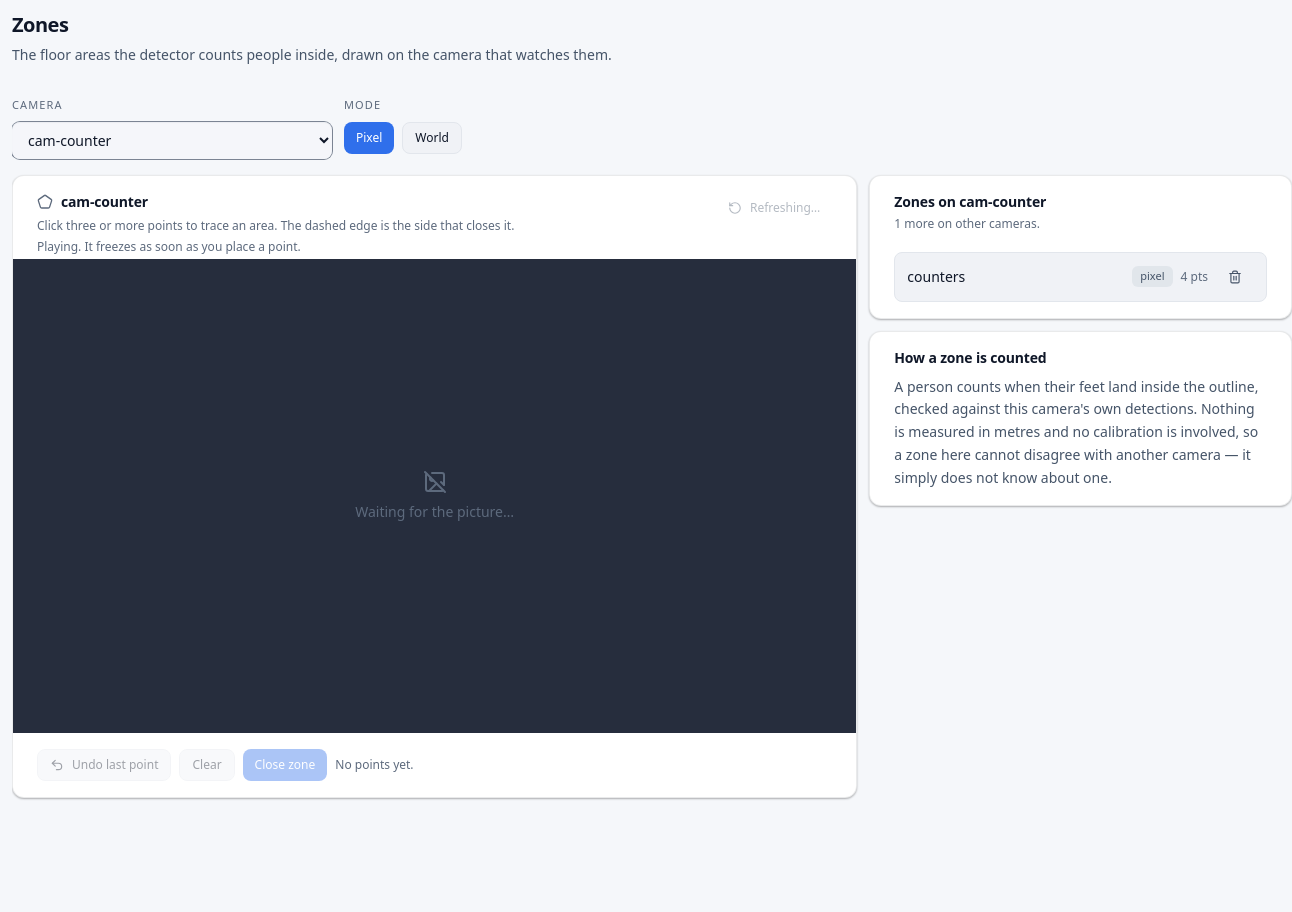
Zones › follows the camera picker
Expected: the text "counters" is shown, 907,266 -> 965,286
Step 1. Select "cam-lobby" in the dropdown labelled "Camera" → (172, 140), box 12,122 -> 332,158
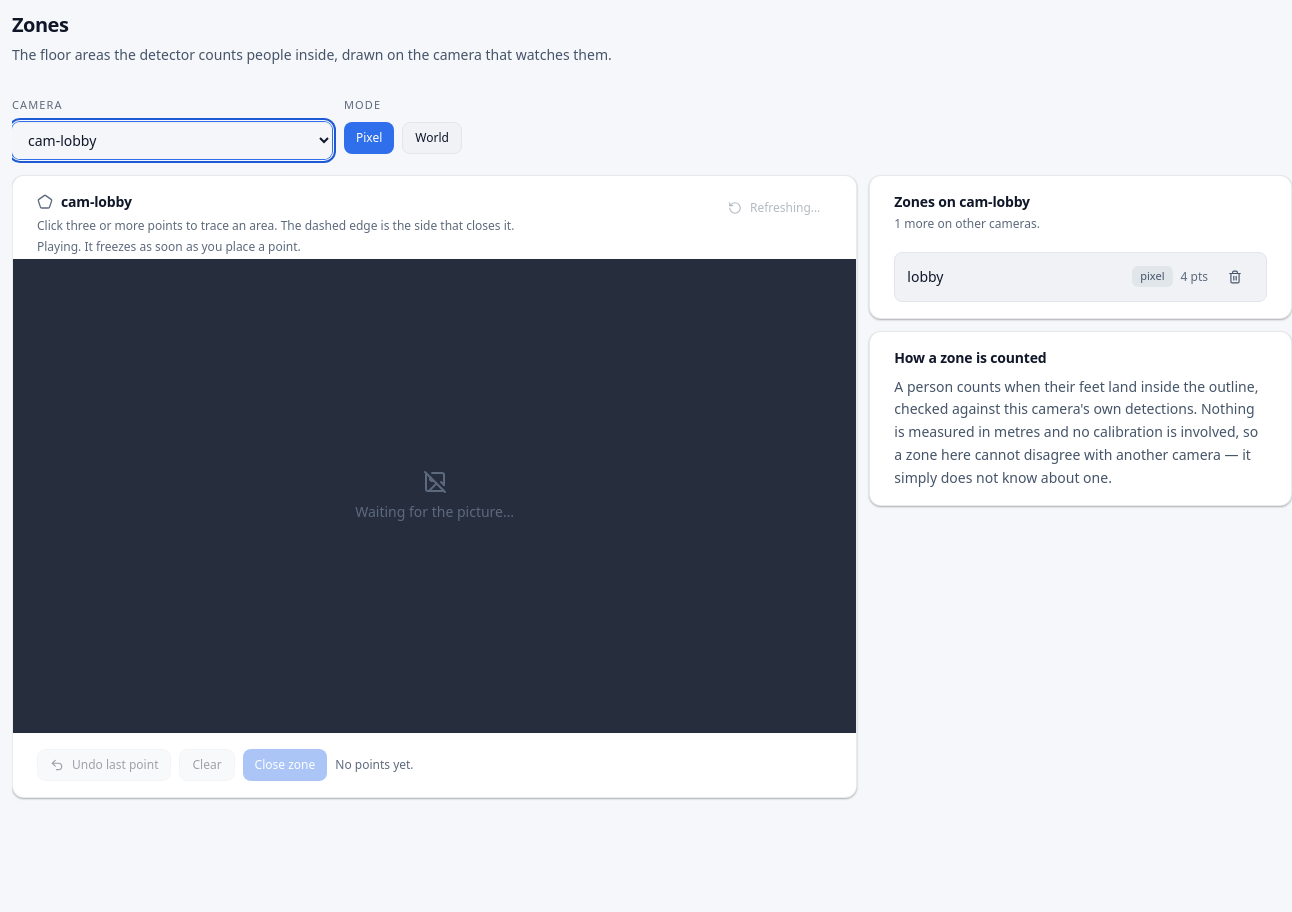
Expected: the text "lobby" is shown, 907,266 -> 944,286
Expected: the text "counters" is gone
